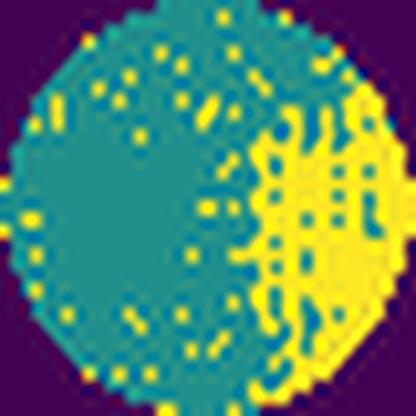Edge-Loc: (246, 70, 416, 414)
